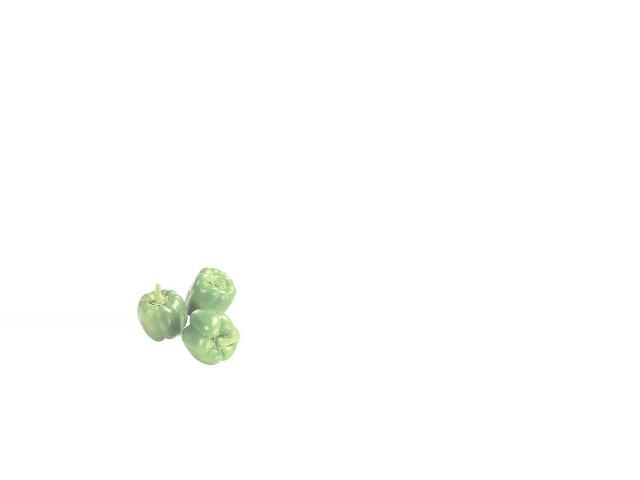bell_pepper: (182, 307, 244, 370)
